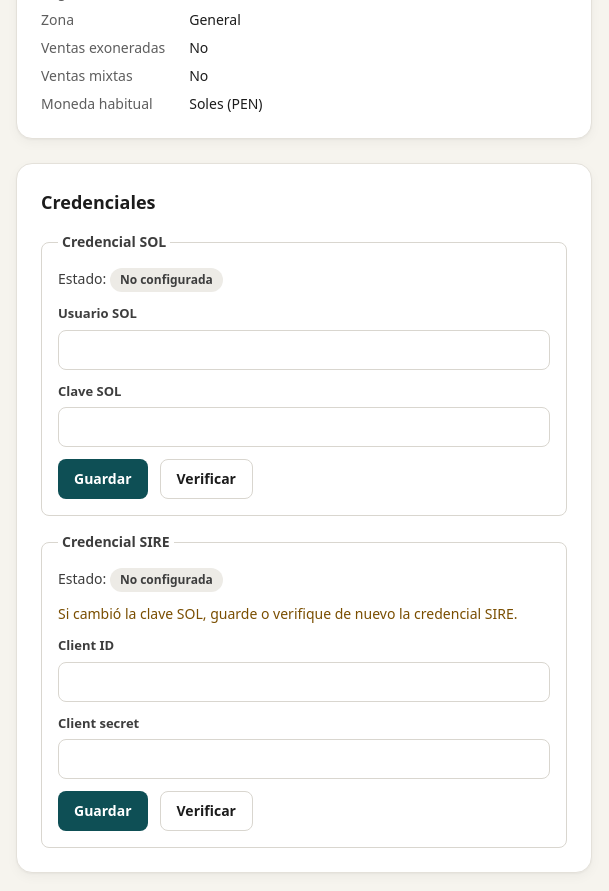
Test case: /clientes/:id · credenciales (007b) › guardar (D4, CA-4) › tras un error de SIRE el client secret tampoco queda en el formulario
The image size is (609, 891).
(page scrolled)
Type "CLIENT-ID-CANARIO-5b2d" into the field labelled "Client ID" at (304, 682), box [58, 662, 550, 702]
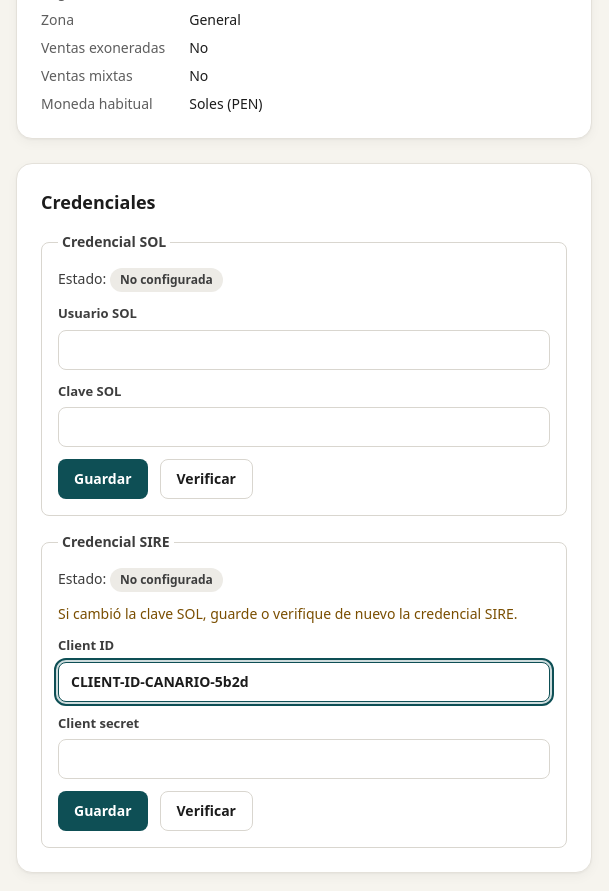
Type "SECRETO-SIRE-CANARIO-3d8e" into the password field labelled "Client secret" at (304, 759), box [58, 739, 550, 779]
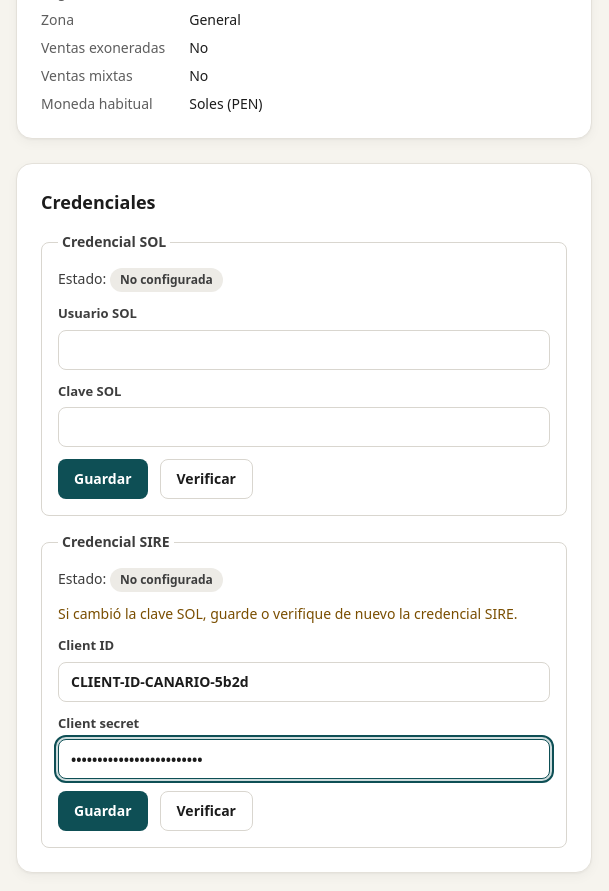
Click the button "Guardar" below "Client secret" at (103, 811), box [58, 791, 148, 831]
(page scrolled)
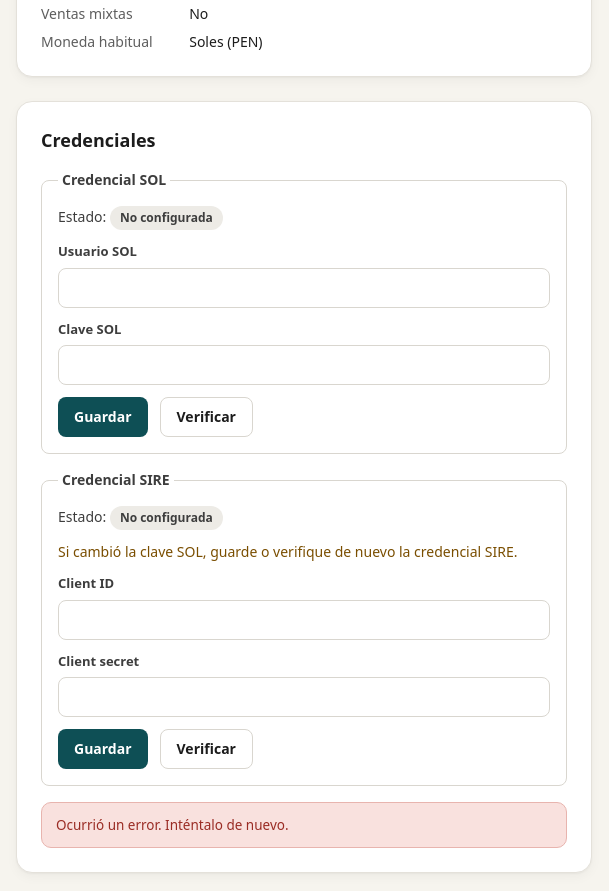
expect the message "Ocurrió un error. Inténtalo de nuevo." is shown: met, box [41, 802, 567, 848]
